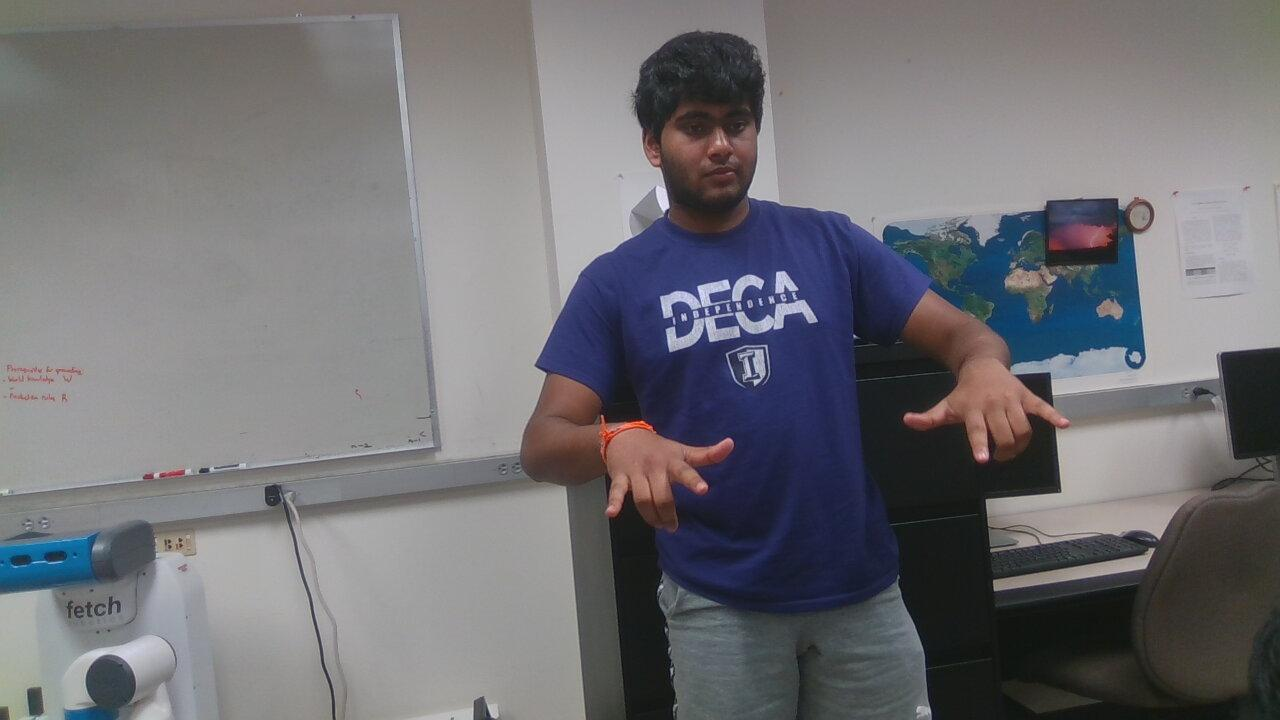hands: (566, 414, 750, 529), (906, 364, 1074, 470)
